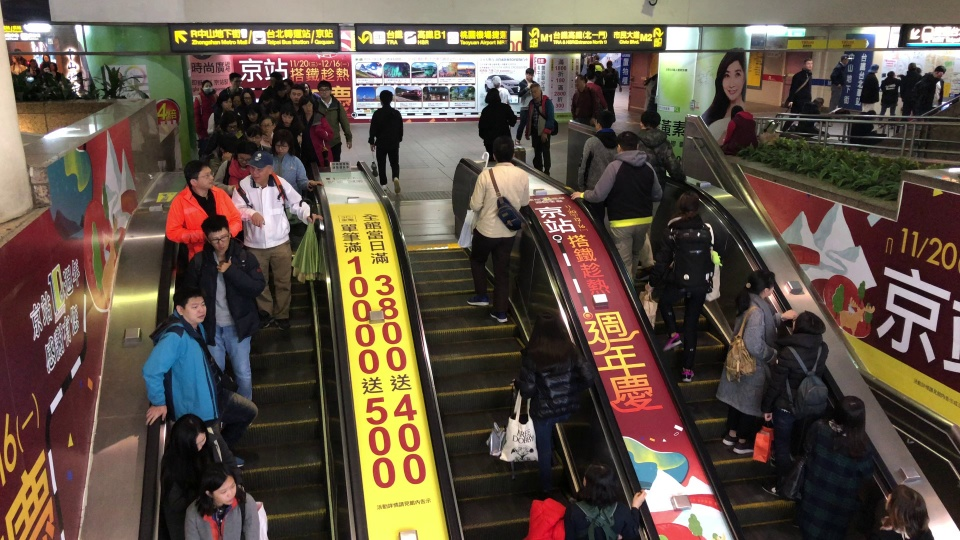person_head: (885, 483, 930, 535), (578, 460, 618, 506), (198, 461, 237, 507), (170, 412, 208, 455), (529, 310, 566, 349), (171, 285, 207, 325), (832, 393, 866, 434), (199, 214, 230, 254), (183, 159, 214, 191), (245, 150, 274, 184), (746, 269, 776, 300), (791, 309, 826, 335), (675, 189, 701, 217), (490, 135, 515, 163), (271, 128, 295, 157), (234, 141, 258, 167), (615, 130, 639, 154), (217, 133, 238, 159), (219, 110, 240, 134), (594, 110, 614, 132), (278, 102, 296, 126), (639, 110, 660, 130), (246, 123, 263, 147), (217, 88, 233, 111), (258, 115, 276, 134), (244, 103, 261, 123), (483, 87, 502, 104), (298, 95, 315, 114), (316, 80, 332, 99), (265, 102, 281, 121), (288, 83, 303, 103), (269, 70, 283, 89), (240, 87, 255, 104), (573, 73, 587, 91), (730, 105, 744, 120), (228, 72, 242, 87), (529, 83, 542, 99), (200, 79, 213, 95), (932, 65, 946, 79), (379, 90, 392, 105), (261, 92, 274, 107), (275, 81, 286, 97), (232, 90, 242, 107), (839, 53, 853, 65), (490, 74, 502, 87), (802, 57, 813, 71), (282, 78, 293, 92), (585, 70, 597, 82), (866, 63, 879, 74), (813, 96, 824, 108), (525, 67, 534, 81), (906, 62, 917, 73), (865, 110, 877, 120), (300, 82, 310, 93), (40, 63, 51, 73), (75, 71, 83, 84), (587, 62, 596, 73), (11, 54, 20, 64), (49, 61, 57, 72), (29, 58, 37, 68), (886, 70, 895, 78), (42, 54, 50, 63), (591, 54, 600, 61), (606, 59, 613, 67)
person_vbox: (143, 282, 260, 465), (179, 213, 266, 427), (229, 150, 324, 331), (512, 309, 596, 496), (715, 269, 799, 455), (569, 130, 663, 287), (644, 190, 715, 382), (759, 309, 829, 499), (466, 135, 531, 323), (796, 393, 875, 540), (160, 413, 245, 540), (631, 109, 687, 282), (164, 159, 243, 263), (563, 460, 647, 540), (181, 461, 261, 540), (577, 109, 619, 222), (270, 128, 324, 205), (865, 483, 936, 540), (367, 89, 404, 195), (316, 80, 353, 167), (477, 86, 517, 162), (294, 94, 334, 167), (524, 83, 554, 177), (212, 140, 258, 198), (273, 102, 316, 163), (780, 57, 813, 134), (192, 79, 219, 158), (831, 109, 887, 147), (720, 105, 758, 156), (204, 109, 244, 157), (569, 73, 604, 126), (514, 67, 537, 145), (827, 53, 853, 115), (918, 64, 947, 117), (794, 96, 830, 138), (599, 59, 622, 122), (877, 70, 900, 129), (206, 88, 234, 135), (899, 62, 922, 117), (208, 133, 238, 174), (858, 63, 879, 111), (584, 70, 609, 110), (257, 70, 283, 102), (246, 124, 272, 154), (218, 72, 245, 98), (490, 74, 511, 105), (258, 114, 276, 149), (643, 72, 658, 111), (234, 87, 257, 112), (583, 63, 604, 90), (19, 58, 40, 81), (9, 54, 28, 76), (300, 82, 320, 99), (49, 61, 64, 83), (588, 54, 605, 71), (75, 70, 84, 96), (580, 53, 588, 73)
